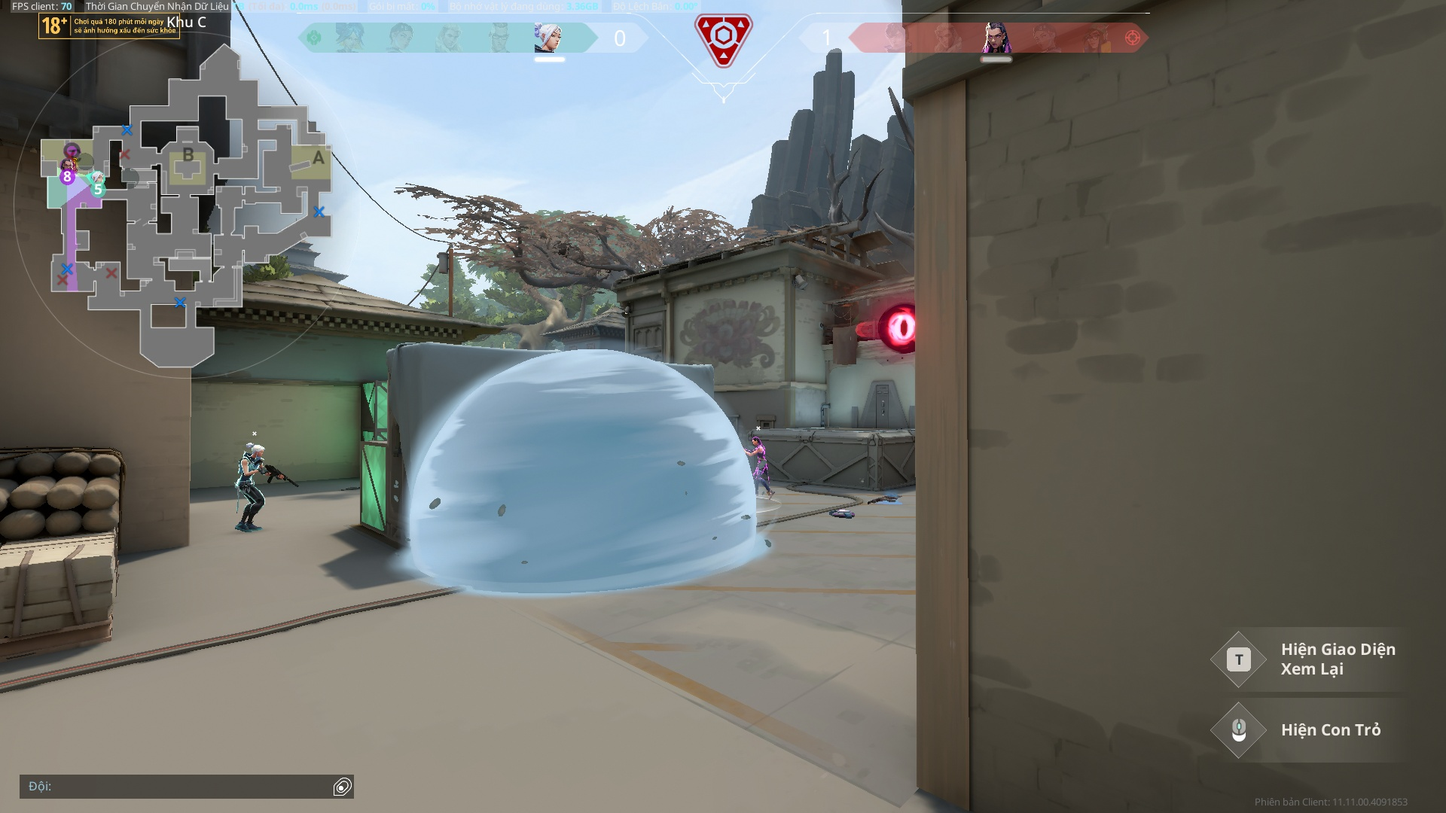body: (753, 445, 767, 462)
head: (752, 436, 761, 446)
